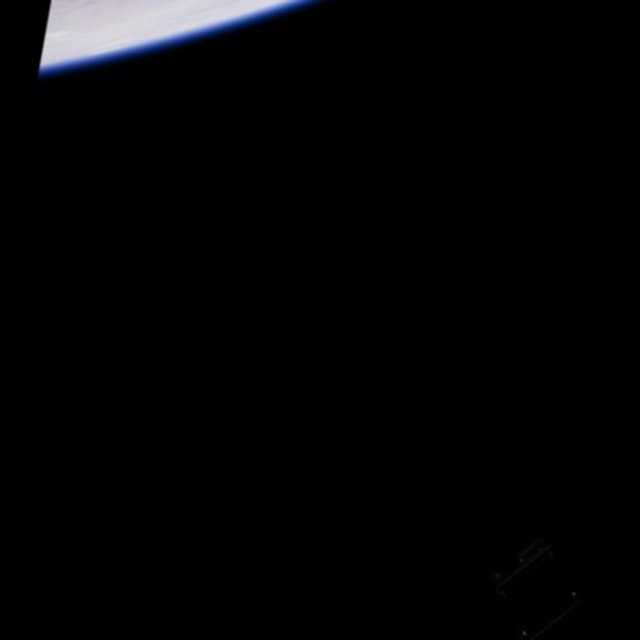satellite: (490, 525, 594, 640)
